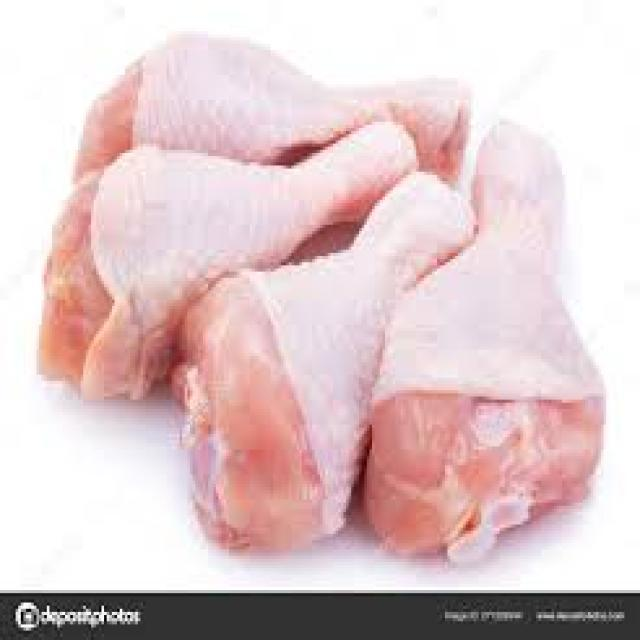leg: (39, 123, 426, 384), (182, 188, 462, 526), (404, 136, 605, 538), (86, 26, 477, 194)
